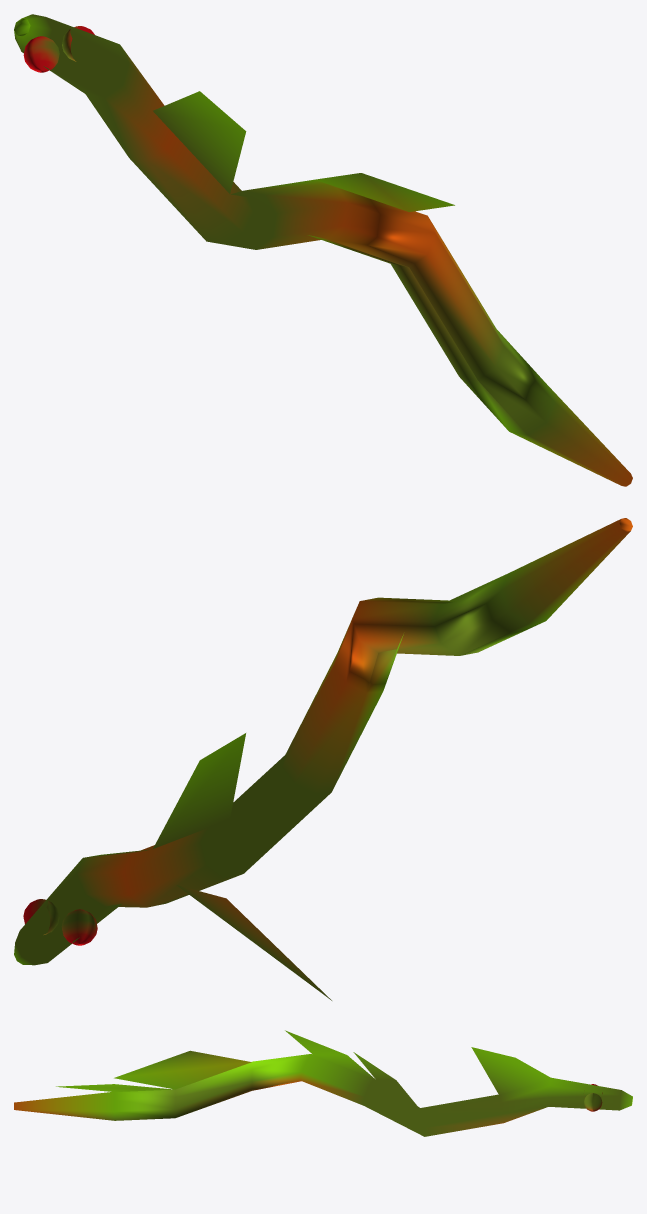
Rendered from swampeel.glb.
3 views of the same model, one above another, from view 1: azimuth 30°, elevation 25°; view 2: azimuth 150°, elevation 25°; view 3: azimuth 270°, elevation 25° (orthographic). The views are drawn at different scales.
Visible parts, largest first — view 1: Swampeel; view 2: Swampeel; view 3: Swampeel.
Part boxes in pixels (x1=…): Swampeel: x1=14, y1=14, x2=632, y2=486; Swampeel: x1=14, y1=518, x2=632, y2=1000; Swampeel: x1=14, y1=1030, x2=632, y2=1136.
Size of the model in its own units: 0.8818 by 0.7224 by 3.13.
